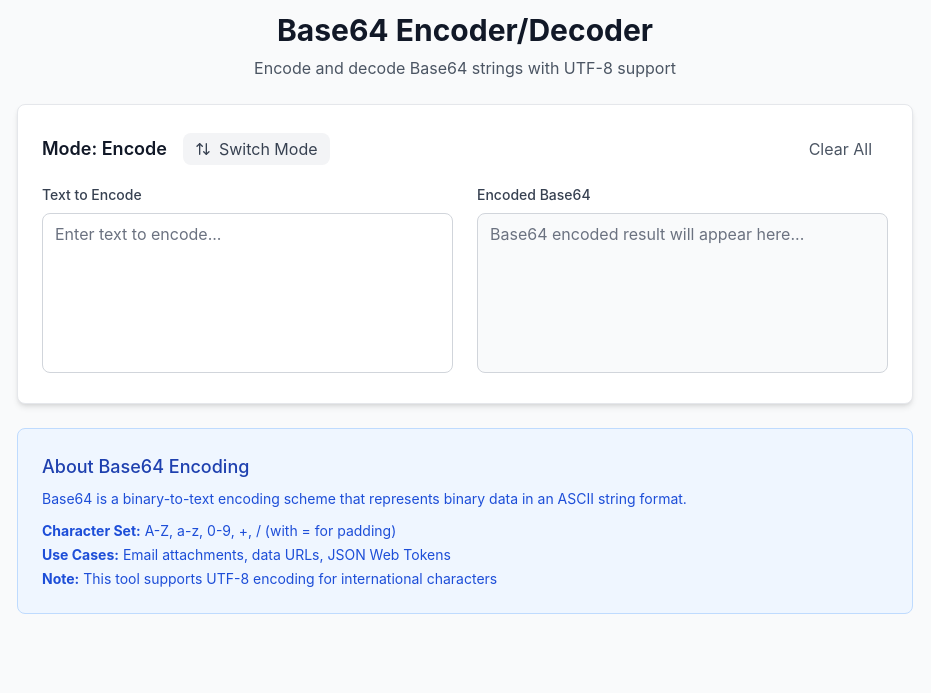
Test: Base64Tool › handles invalid base64 input gracefully
Note: Switch to decode mode
Click the button "Switch Mode" at {"x": 256, "y": 149}, box [183,133,330,165]
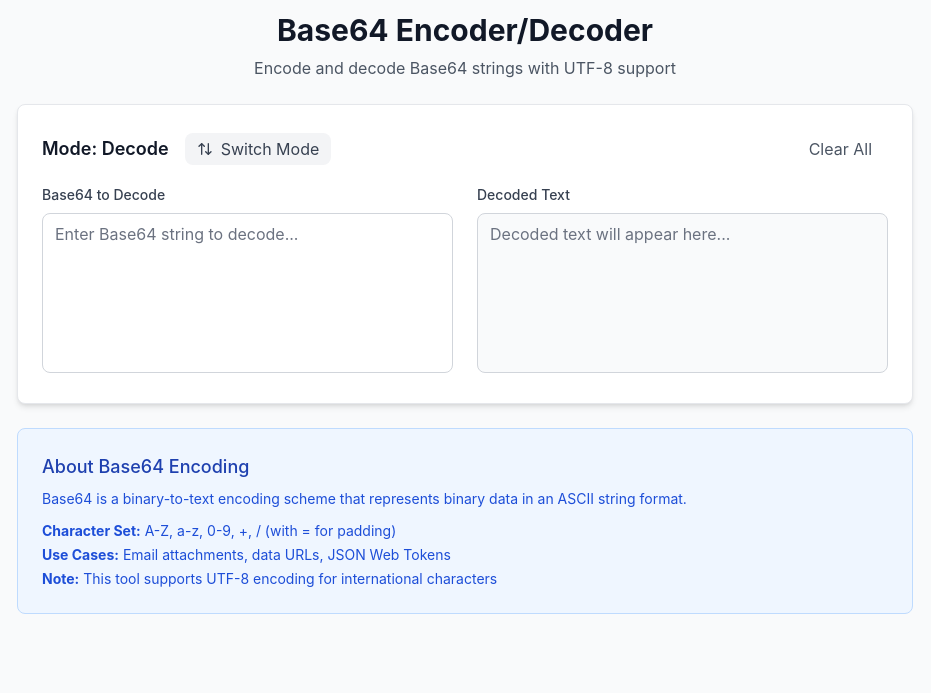
Type "invalid base64!" into the text box with placeholder "Enter Base64 string to decode..." at {"x": 248, "y": 293}, box [42,213,453,373]
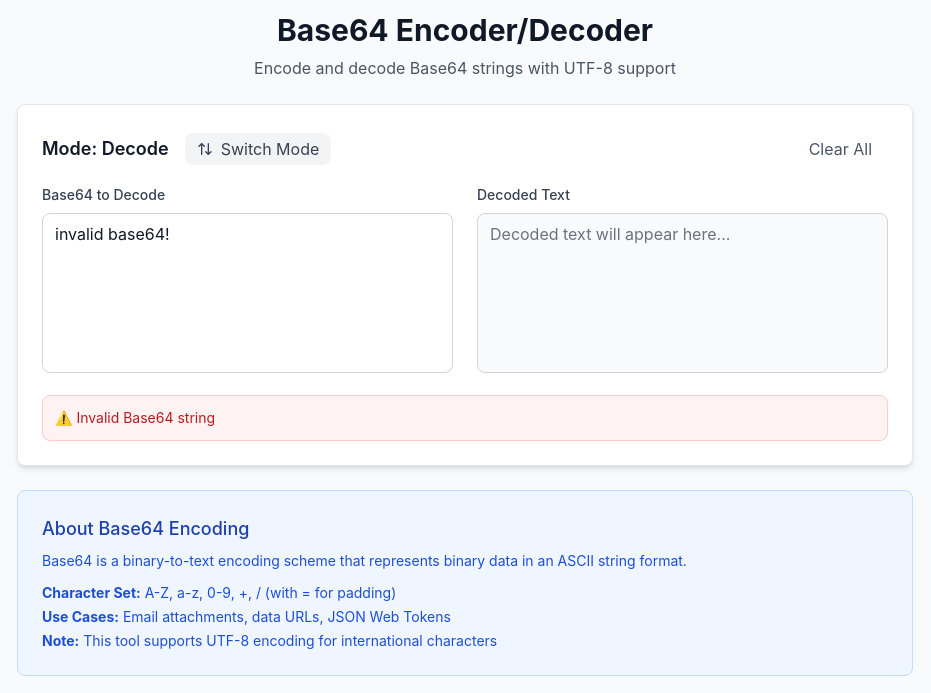
Expected: the text "⚠️ Invalid Base64 string" is shown, [55,409,215,426]
